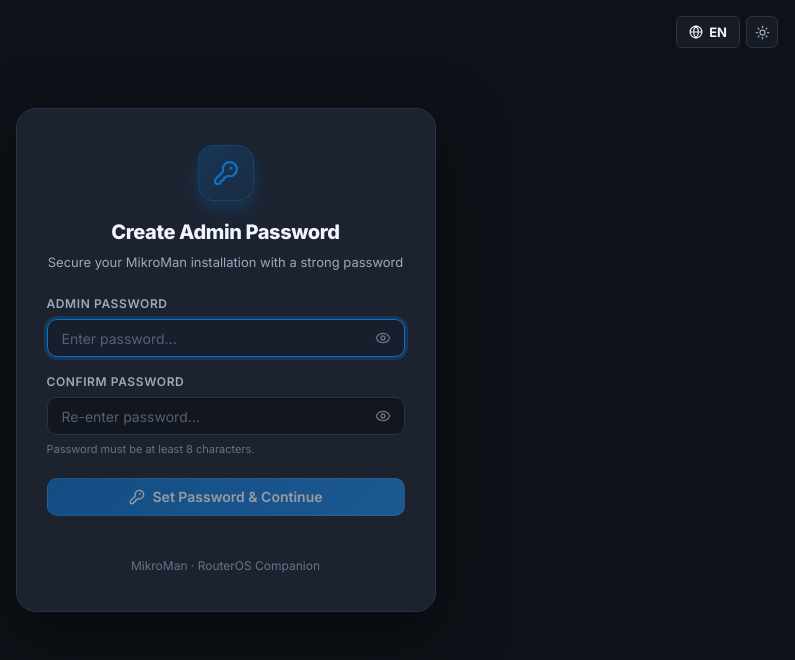
it: LoginPage component › validates minimum password length in setup mode
Type "short" into the password field labelled "Admin Password" at x=226, y=338, box [46, 319, 404, 357]
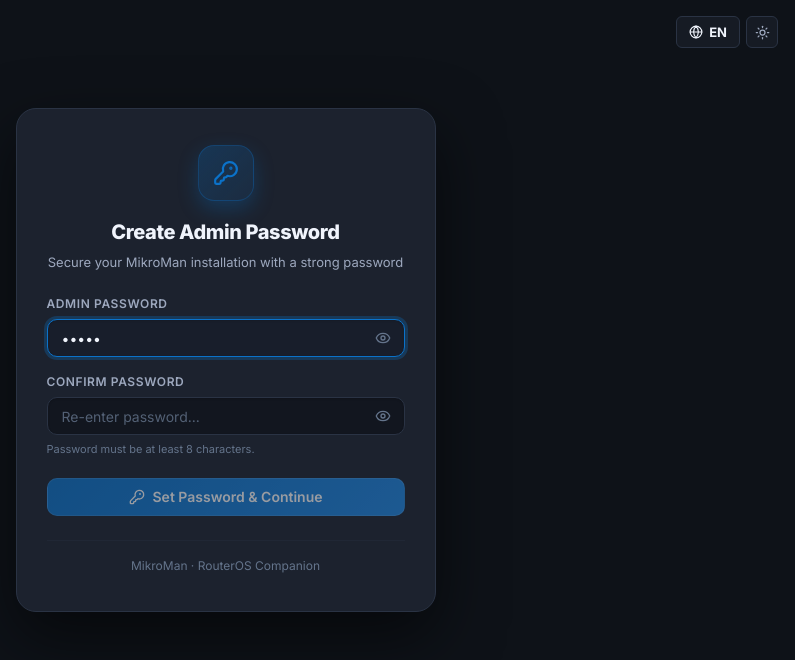
Type "short" into the password field with placeholder "Re-enter password..." at x=226, y=416, box [46, 397, 404, 435]
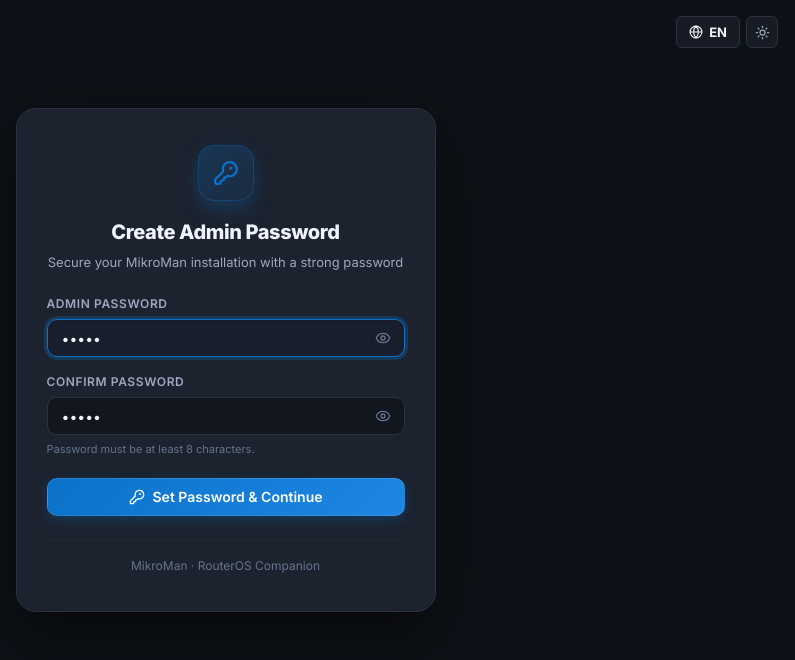
Click the button "Set Password & Continue" at x=226, y=497, box [46, 478, 404, 516]
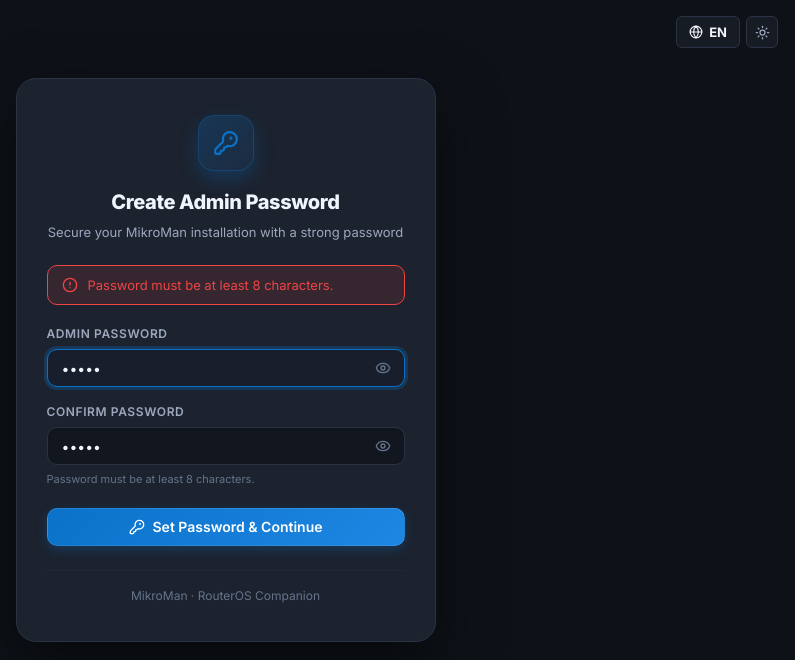
Expected: the message reads "Password must be at least 8 characters.", [88, 277, 333, 293]
